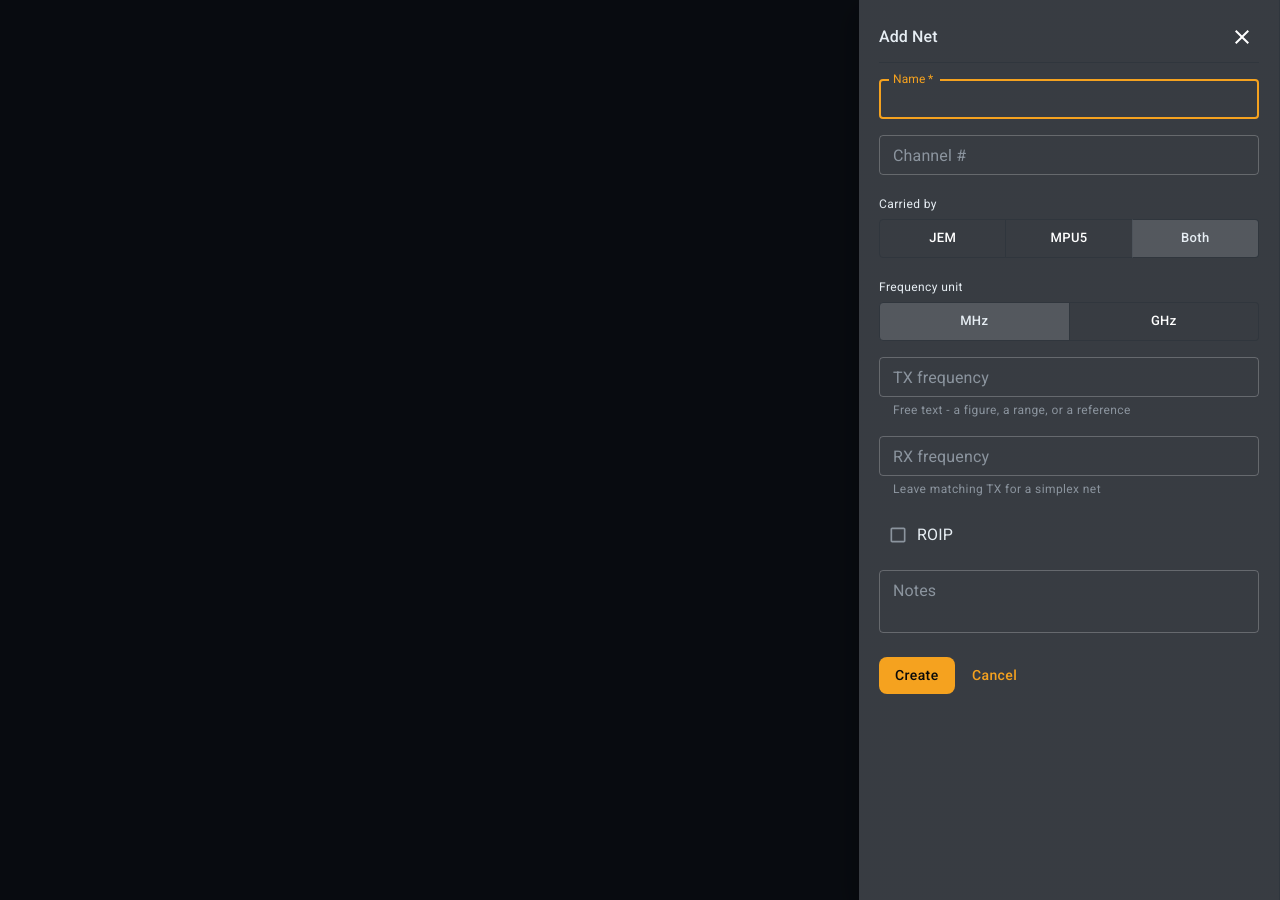
Scenario: NetDrawer › refuses to save without a name
The width and height of the screenshot is (1280, 900).
What coordinates should you click on to do the following:
click the button "Create"
I would click on:
 (917, 676)
Its box is [879,657,955,694].
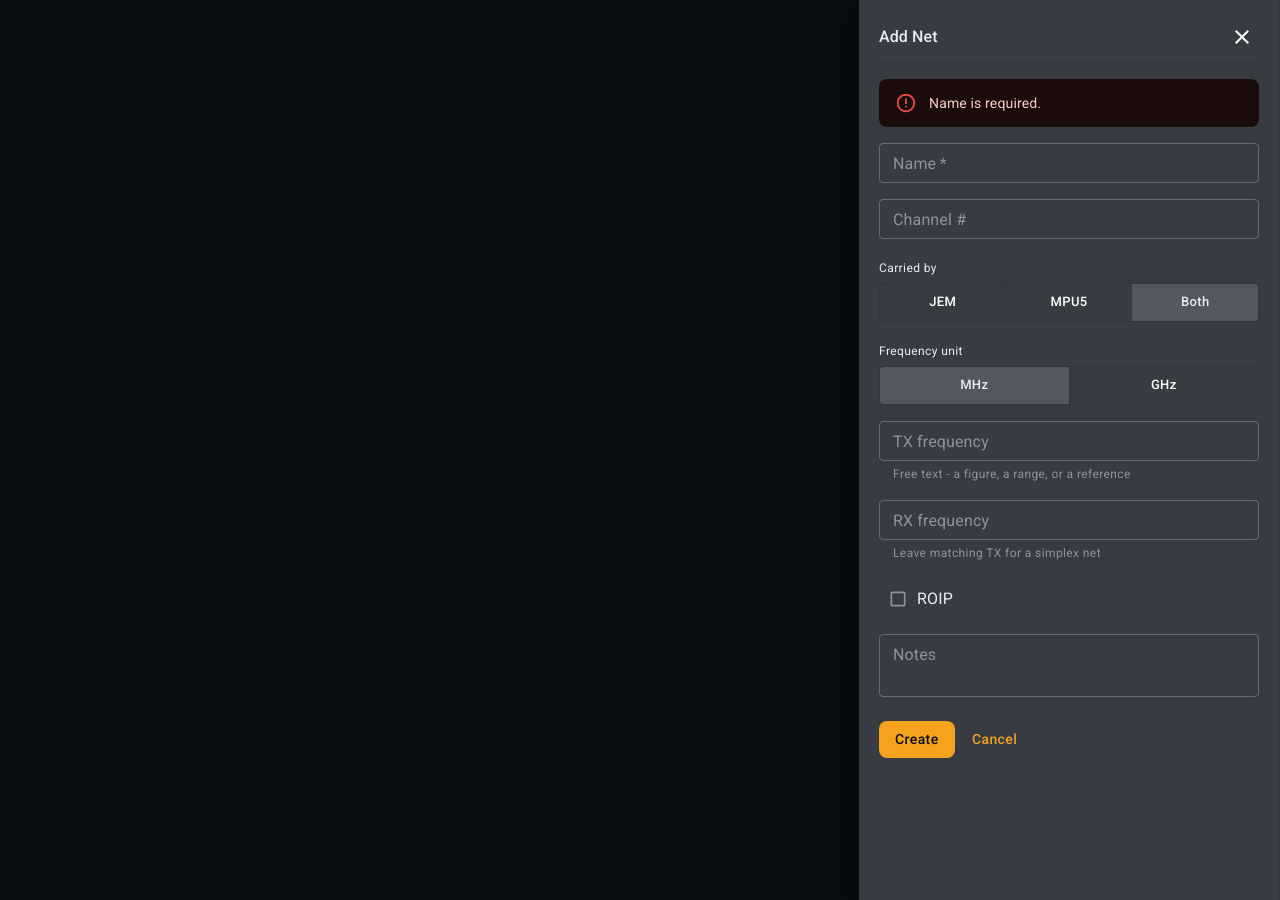
Now the text "Name is required." is shown, box [929,95,1041,111]
